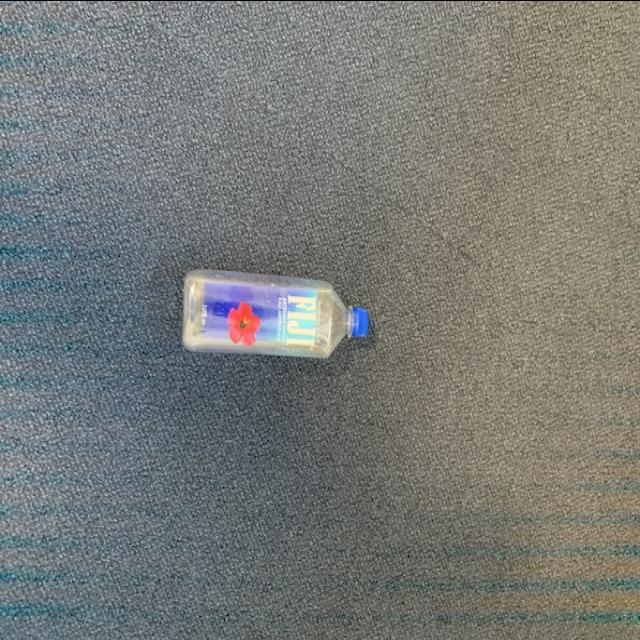PET: (178, 264, 375, 362)
